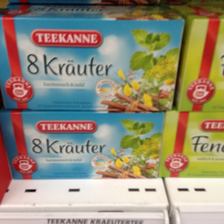tea: (1, 2, 185, 113), (1, 110, 166, 179)
